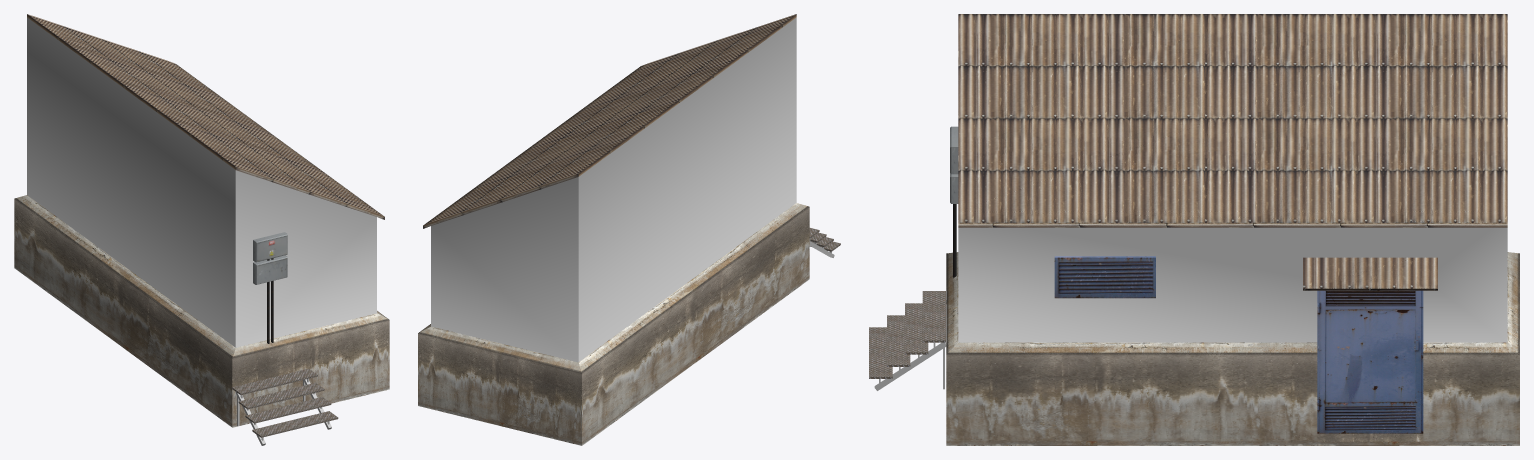
File: house_entrance_lod0.fbx
3 renders of one model, left to right at view 1: azimuth 30°, elevation 25°; view 2: azimuth 150°, elevation 25°; view 3: azimuth 270°, elevation 25°, orthographic. The views are drawn at different scales.
Parts seen in each view (by area): view 1: Mesh Object, Mesh Object_ncl1_2, Mesh Object_ncl1_1; view 2: Mesh Object, Mesh Object_ncl1_2; view 3: Mesh Object, Mesh Object_ncl1_2, Mesh Object_ncl1_1.
Boxes of the visible parts, x1=… form: Mesh Object: x1=14, y1=14, x2=389, y2=427; Mesh Object_ncl1_2: x1=232, y1=368, x2=338, y2=445; Mesh Object_ncl1_1: x1=253, y1=232, x2=287, y2=343; Mesh Object: x1=418, y1=14, x2=809, y2=445; Mesh Object_ncl1_2: x1=809, y1=228, x2=840, y2=257; Mesh Object: x1=946, y1=14, x2=1519, y2=445; Mesh Object_ncl1_2: x1=869, y1=291, x2=946, y2=390; Mesh Object_ncl1_1: x1=950, y1=126, x2=958, y2=277.
Size of the model in its own units: 2.96 by 4.2 by 7.37.
